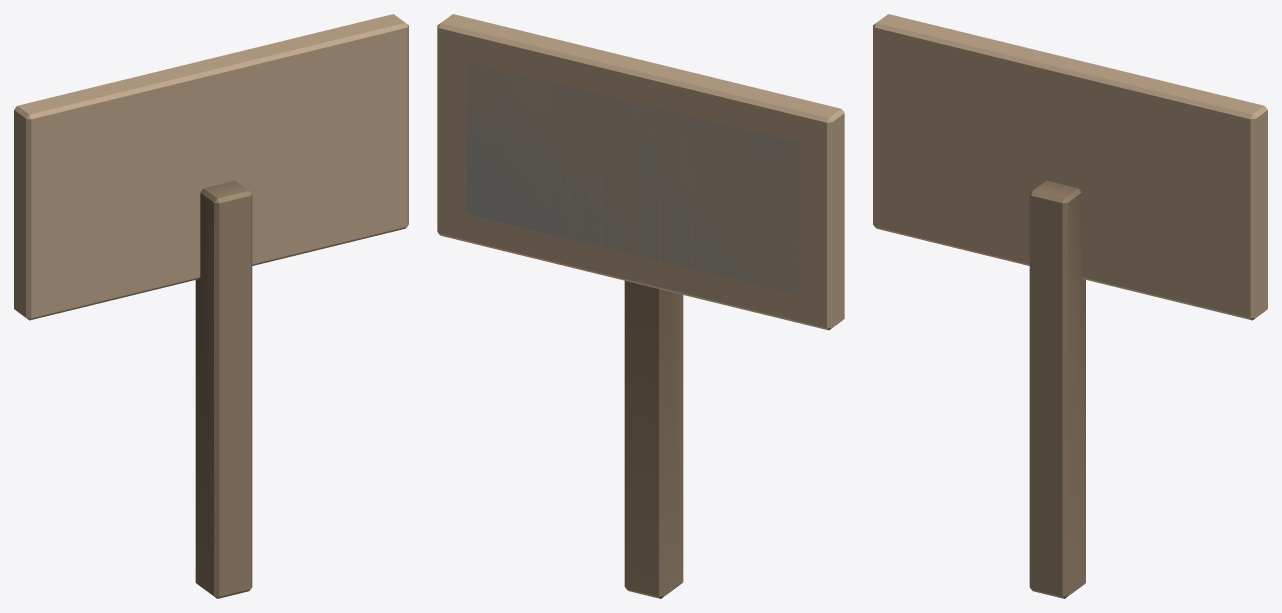
Rendered from sign_plaque.glb.
The picture shows the model from 3 angles, left to right: view 1: azimuth 30°, elevation 25°; view 2: azimuth 150°, elevation 25°; view 3: azimuth 330°, elevation 25°; orthographic projection. The views are drawn at different scales.
Bounding box in the file's own units: 0.7 × 0.9 × 0.1.
